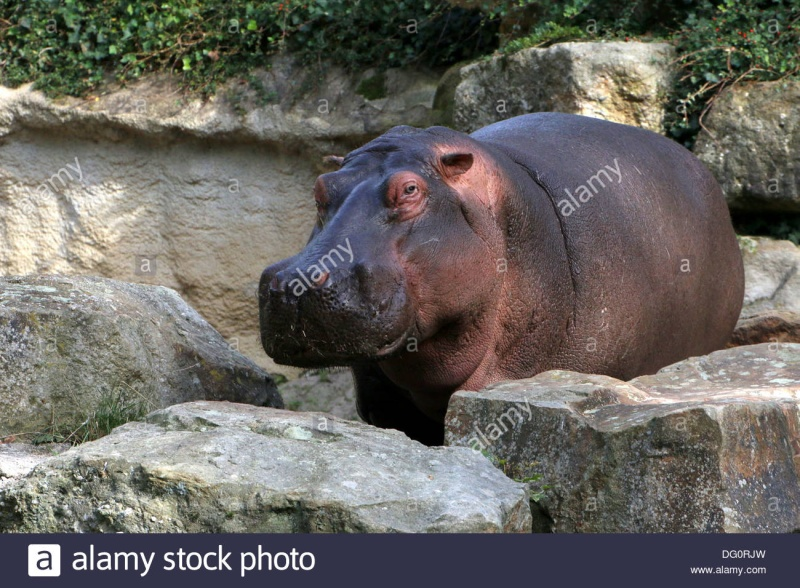hipopotamo: (256, 109, 752, 422)
